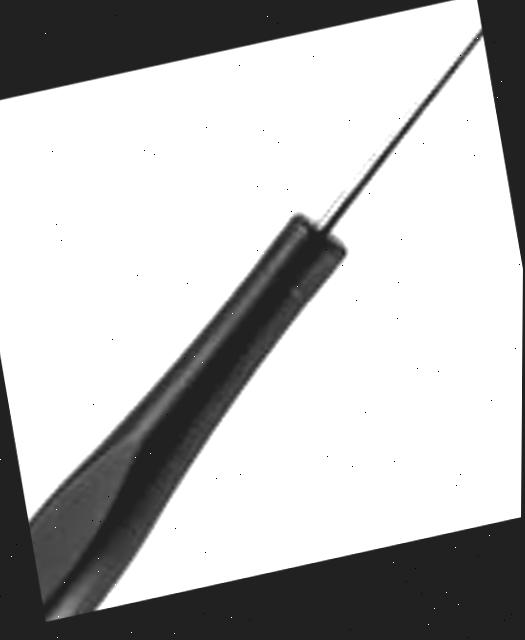ice pick: (0, 0, 525, 623)
